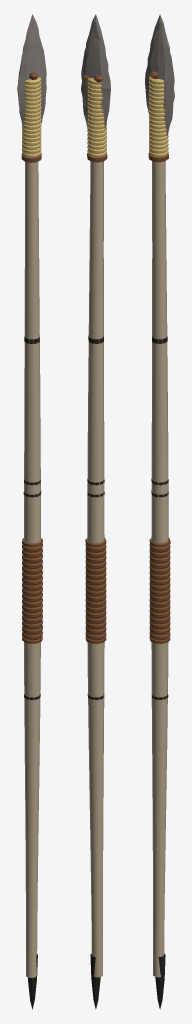
The model's file is tool_spear_stone.fbx.
3 views of the same model, side by side, from view 1: azimuth 30°, elevation 25°; view 2: azimuth 150°, elevation 25°; view 3: azimuth 330°, elevation 25° (orthographic).
Visible parts, largest first — view 1: Tool_Spear_Stone_Shaft, Tool_Spear_Stone_Wraps, Tool_Spear_Stone_Head; view 2: Tool_Spear_Stone_Shaft, Tool_Spear_Stone_Wraps, Tool_Spear_Stone_Head; view 3: Tool_Spear_Stone_Shaft, Tool_Spear_Stone_Wraps, Tool_Spear_Stone_Head.
Part boxes in pixels (left/top/right/bottom): Tool_Spear_Stone_Shaft: left=23, top=162, right=41, bottom=977; Tool_Spear_Stone_Wraps: left=21, top=77, right=42, bottom=643; Tool_Spear_Stone_Head: left=17, top=14, right=46, bottom=1009; Tool_Spear_Stone_Shaft: left=87, top=161, right=104, bottom=977; Tool_Spear_Stone_Wraps: left=85, top=77, right=107, bottom=643; Tool_Spear_Stone_Head: left=81, top=14, right=110, bottom=1009; Tool_Spear_Stone_Shaft: left=151, top=161, right=168, bottom=977; Tool_Spear_Stone_Wraps: left=148, top=76, right=170, bottom=643; Tool_Spear_Stone_Head: left=145, top=14, right=174, bottom=1009.
Bounding box in the file's own units: 7.64 × 246 × 4.93.
